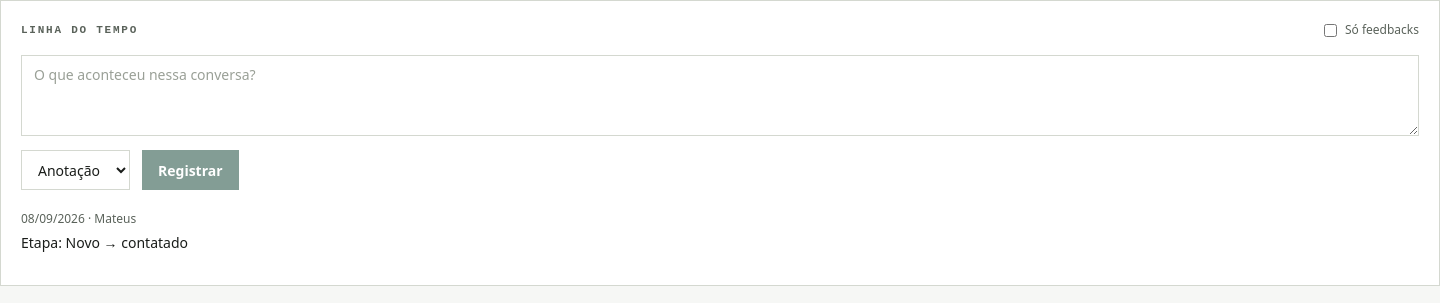
Test: LinhaDoTempo › filtro sem resultado fala do filtro, não da pessoa
Click the checkbox labelled "Só feedbacks": [1330, 30] box [1324,24,1337,36]
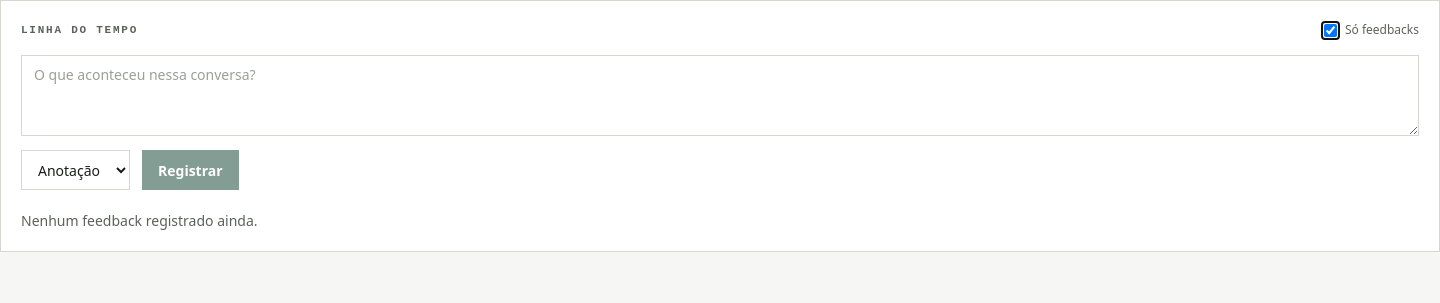
Result: the text "Nenhum feedback registrado ainda." is shown at [21,211,258,230]
